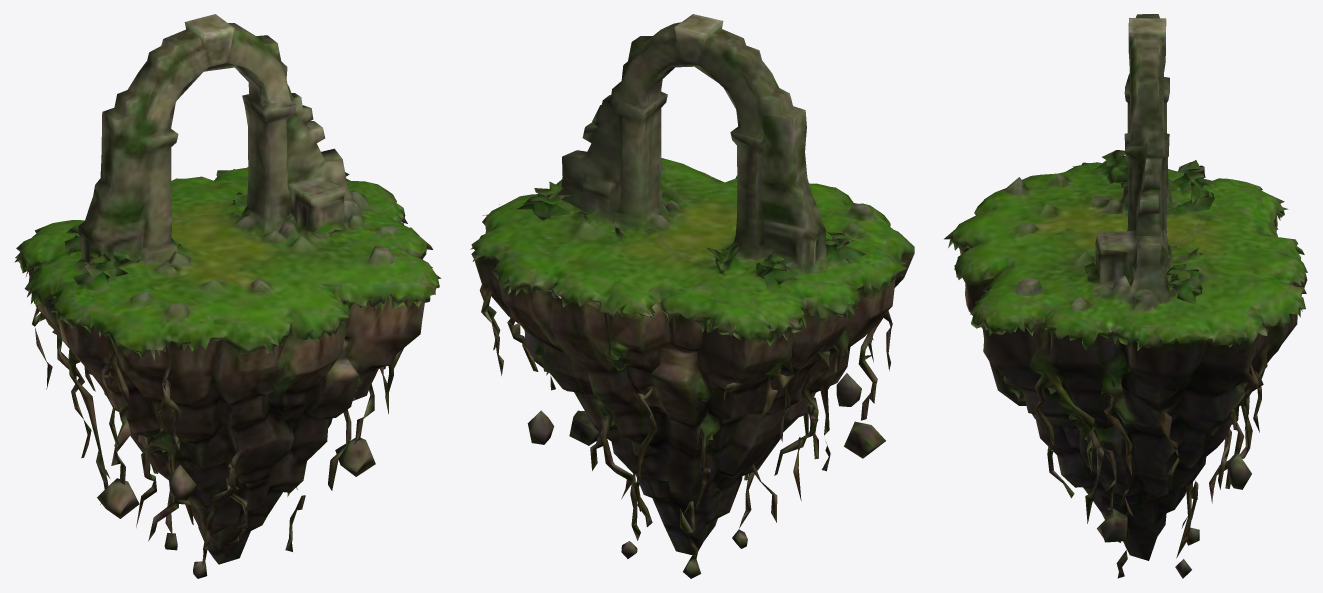
The model's file is sky_island.glb.
3 renders of one model, left to right at view 1: azimuth 30°, elevation 25°; view 2: azimuth 150°, elevation 25°; view 3: azimuth 270°, elevation 25°, orthographic. The views are drawn at different scales.
Bounding box in the file's own units: 0.7318 × 1 × 0.6292.
1 material, 1 textured.
